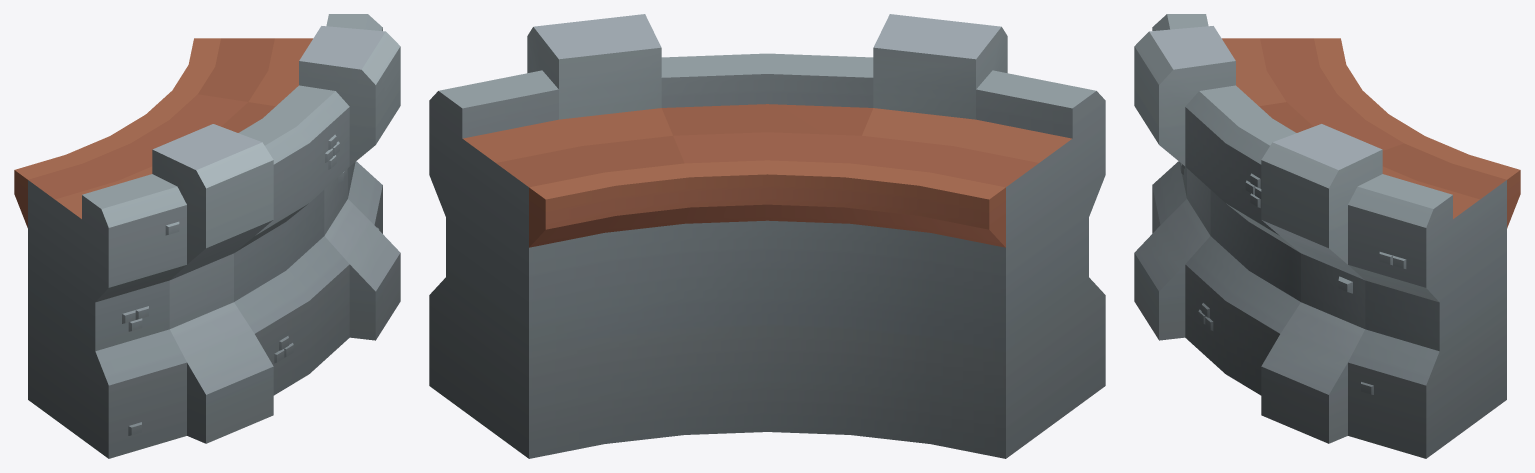
File: kaykit-medieval-hexagon-pack-wall-corner-a-outside.glb
The picture shows the model from 3 angles, left to right: view 1: azimuth 30°, elevation 25°; view 2: azimuth 150°, elevation 25°; view 3: azimuth 270°, elevation 25°; orthographic projection. The views are drawn at different scales.
Visible parts, largest first — view 1: wall_corner_A_outside; view 2: wall_corner_A_outside; view 3: wall_corner_A_outside.
Part boxes in pixels (bbox=[...]): wall_corner_A_outside: bbox=[14, 14, 400, 458]; wall_corner_A_outside: bbox=[429, 14, 1105, 458]; wall_corner_A_outside: bbox=[1134, 14, 1520, 458].
Size of the model in its own units: 1.76 by 1.1 by 1.43.
Materials: 1 (1 with a texture image).
